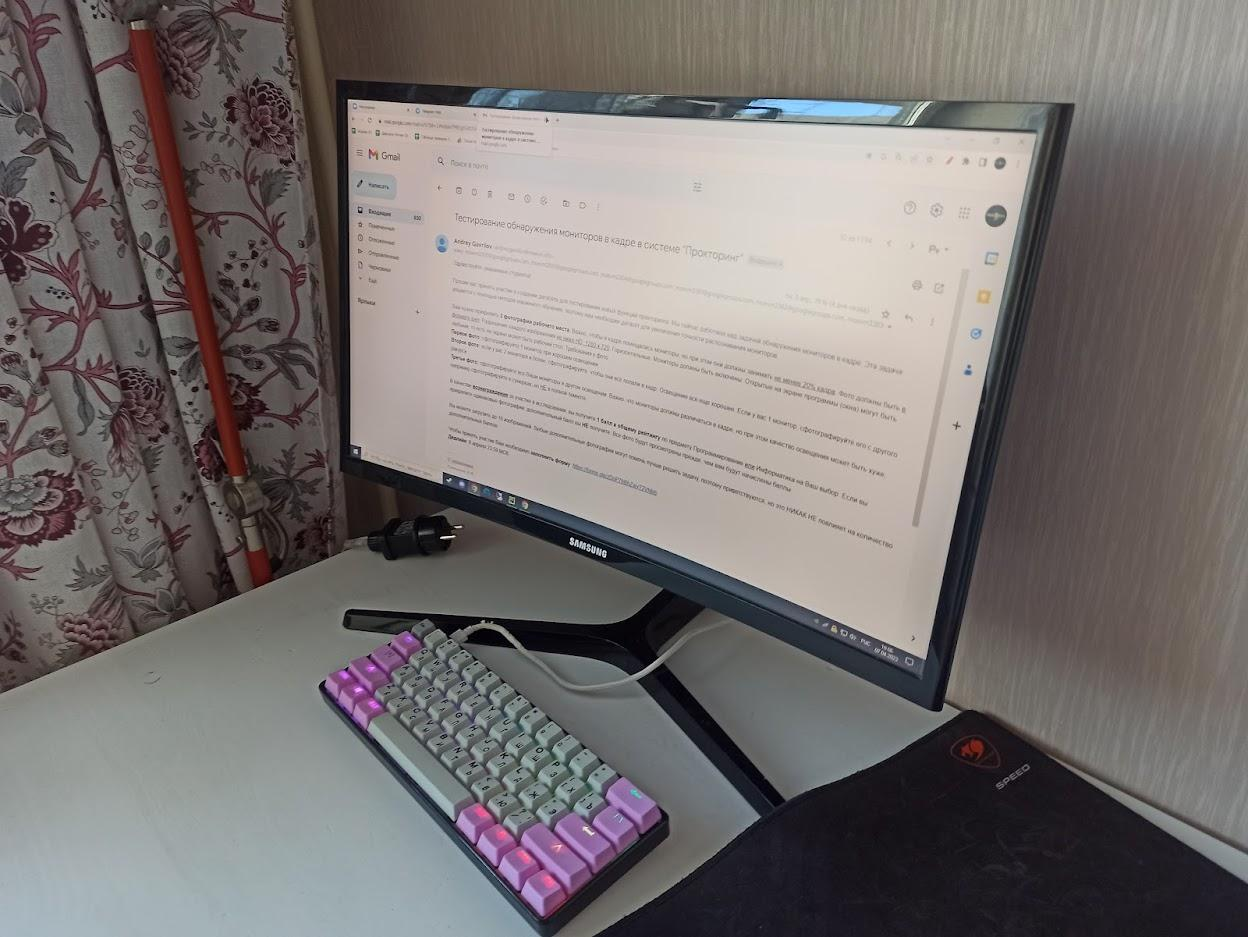monitor: (334, 74, 1080, 717)
